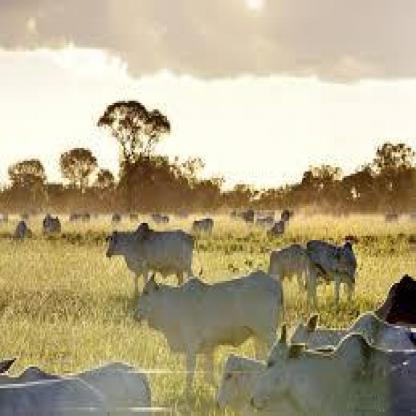cow: (131, 272, 285, 394), (249, 321, 416, 416), (0, 351, 152, 416), (104, 223, 204, 296), (0, 375, 108, 416), (304, 238, 359, 311), (210, 351, 268, 416), (267, 241, 311, 295)
